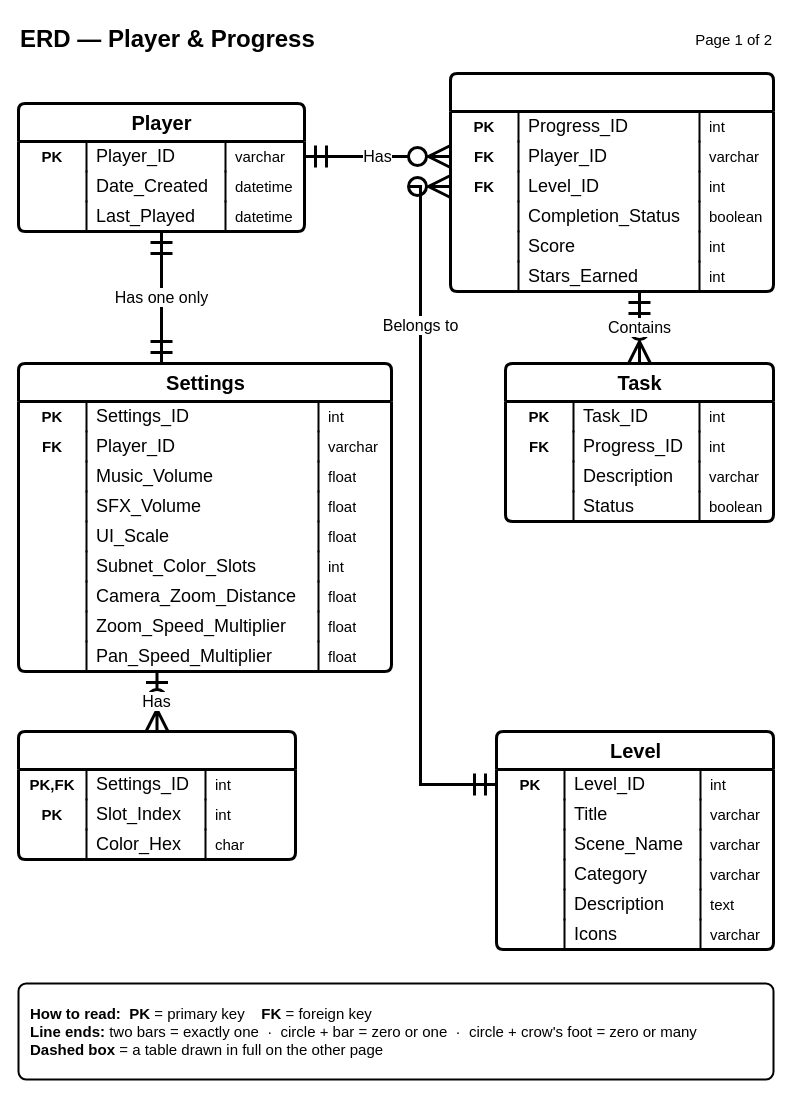
This 792x1097 diagram has some shape labels left out. The box of each missing label's shape, as (x1, y1, x2, y2) in pixels:
Progress_Data: (448, 72, 774, 292)
Subnet_Color_Override: (16, 730, 296, 860)
